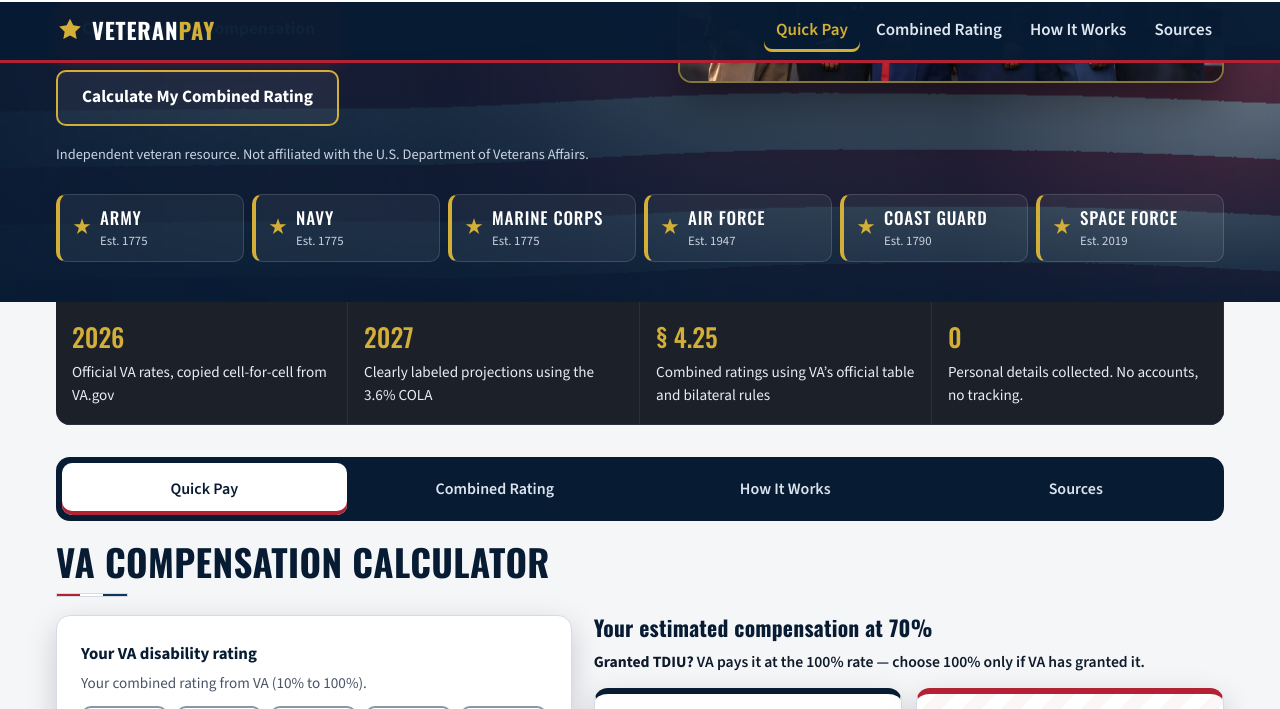
Test: App › combined rating defaults to 50/30/20 → 70% and can feed Quick Pay
(page scrolled)
Click the tab "Combined Rating": point(495, 489) [352,463,637,515]
(page scrolled)
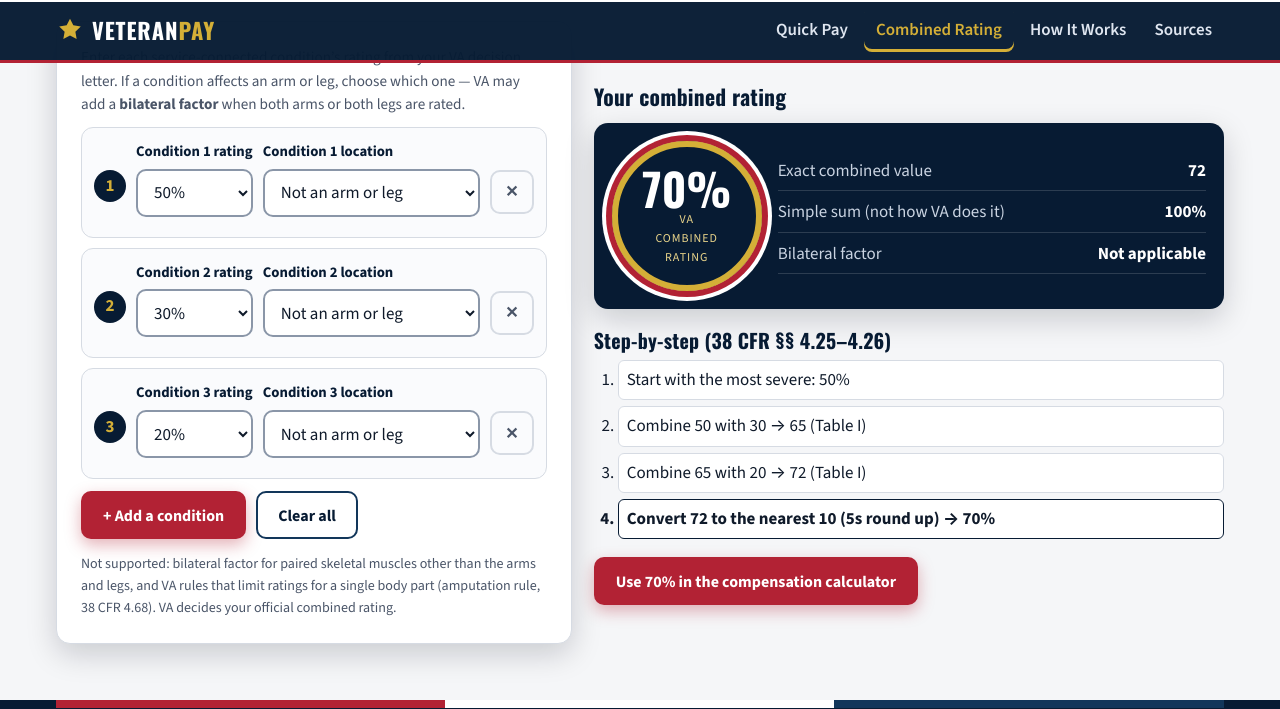
Expected: the text "70%" is shown, [642,166,731,210]
Click the button "Use 70% in the compensation calculator": point(756, 581) [594,557,918,605]
(page scrolled)
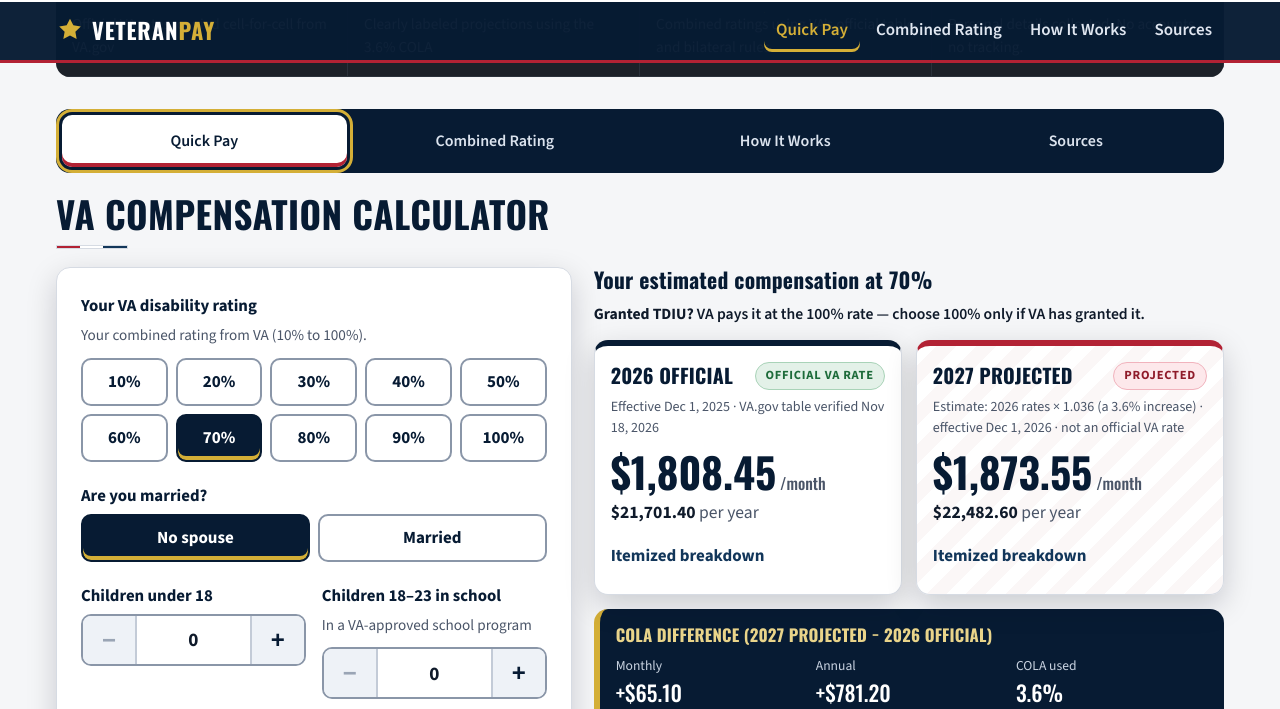
Expected: the tab "Quick Pay" is selected, [62,115,346,167]
